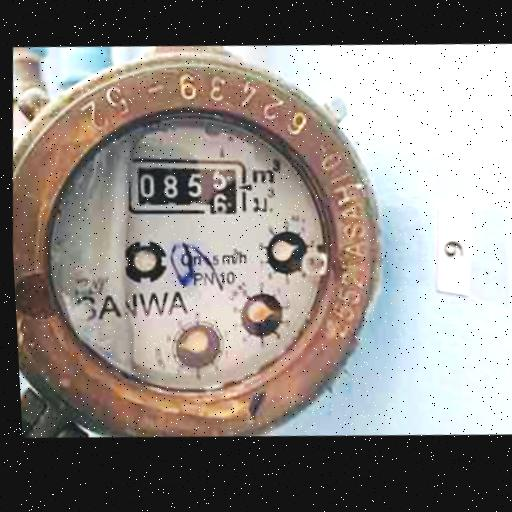0: (136, 167, 163, 207)
5: (208, 168, 238, 216), (182, 168, 213, 207)
8: (159, 168, 186, 207)
border_water_meter_number: (124, 151, 250, 222)
